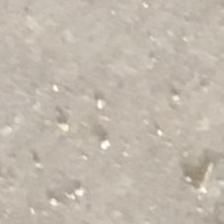Non_Crack: (27, 13, 224, 200)
